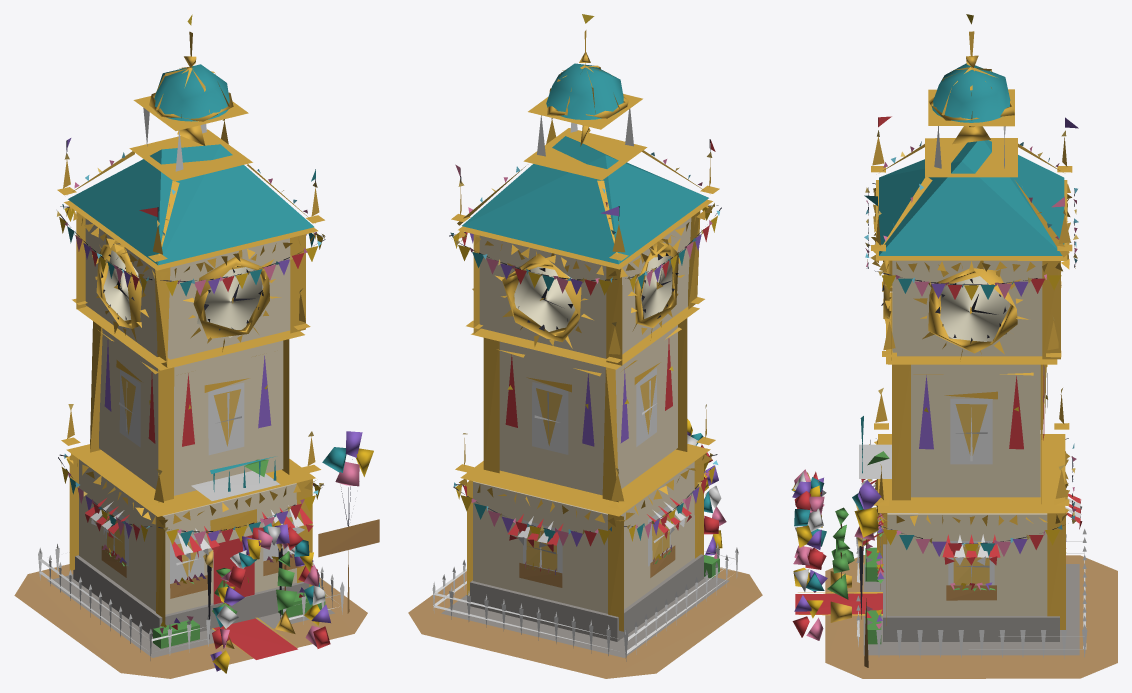
The model's file is clock-tower-lod1-6.b77618c2.glb.
3 views of the same model, side by side, from view 1: azimuth 30°, elevation 25°; view 2: azimuth 150°, elevation 25°; view 3: azimuth 270°, elevation 25° (orthographic). The views are drawn at different scales.
Visible parts, largest first — view 1: ClockTower_Stage6__T_vcol; view 2: ClockTower_Stage6__T_vcol; view 3: ClockTower_Stage6__T_vcol.
Boxes of the visible parts, <box> form: ClockTower_Stage6__T_vcol: <box>14,14,379,678</box>; ClockTower_Stage6__T_vcol: <box>408,14,762,678</box>; ClockTower_Stage6__T_vcol: <box>791,14,1117,678</box>.
Size of the model in its own units: 4.91 by 10.63 by 5.22.
